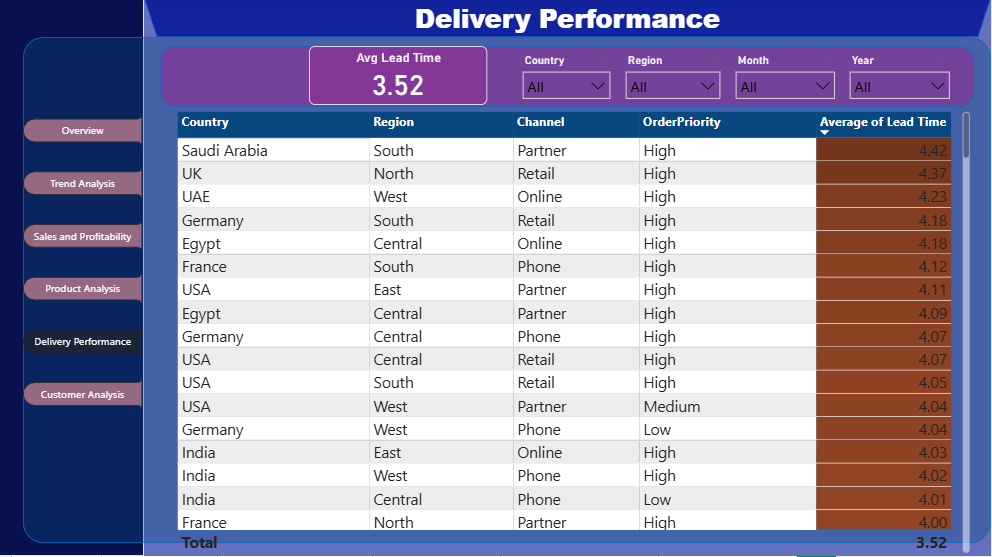

Layout of this report page (visuals, bound fields, positions):
{"tool":"powerbi","page":{"name":"Delivery Performance","canvas":[1280,720],"ordinal":4},"visuals":[{"type":"shape","box":[0,0,187.1,720.2],"z":0},{"type":"shape","box":[31.4,50,1248.6,652.9],"z":1000},{"type":"shape","box":[207.6,61.3,1050.4,78.6],"z":2000},{"type":"slicer","fields":{"Values":["DimDate.Date.Variation.Date Hierarchy.Year"]},"box":[1088.2,67.6,149.4,66],"z":3000},{"type":"slicer","fields":{"Values":["DimGeography.Country"]},"box":[665.7,67.1,132.9,65.7],"z":4000},{"type":"slicer","fields":{"Values":["DimDate.Date.Variation.Date Hierarchy.Month"]},"box":[940.3,67.6,147.8,66],"z":5000},{"type":"slicer","fields":{"Values":["DimGeography.Region"]},"box":[798.8,67.6,141.5,66],"z":6000},{"type":"pageNavigator","box":[31.4,141.5,154.1,402.6],"z":7000},{"type":"shape","box":[187.1,0,1092.9,50.3],"z":8000},{"type":"tableEx","fields":{"Values":["DimGeography.Country","DimGeography.Region","FactSales.Channel","FactSales.OrderPriority","Avg(FactSales.Lead Time)"]},"box":[224.3,141.4,1032.9,578.6],"z":9000},{"type":"card","title":"Avg Lead Time","fields":{"Values":["Avg(FactSales.Lead Time)"]},"box":[400,61.4,230,75.7],"z":10000}]}

Visuals, with their boxes in screenshot pixels (x1, y1, x2, y2), scaled from the page's 1280x720 canvas onto the 992x557 screenshot:
shape: l=0, t=0, r=145, b=556
shape: l=24, t=39, r=991, b=544
shape: l=161, t=47, r=975, b=108
slicer - DimDate.Date.Variation.Date Hierarchy.Year: l=843, t=52, r=959, b=103
slicer - DimGeography.Country: l=516, t=52, r=619, b=103
slicer - DimDate.Date.Variation.Date Hierarchy.Month: l=729, t=52, r=843, b=103
slicer - DimGeography.Region: l=619, t=52, r=729, b=103
pageNavigator: l=24, t=109, r=144, b=421
shape: l=145, t=0, r=991, b=39
tableEx - DimGeography.Country x DimGeography.Region: l=174, t=109, r=974, b=556
"Avg Lead Time" card: l=310, t=47, r=488, b=106
